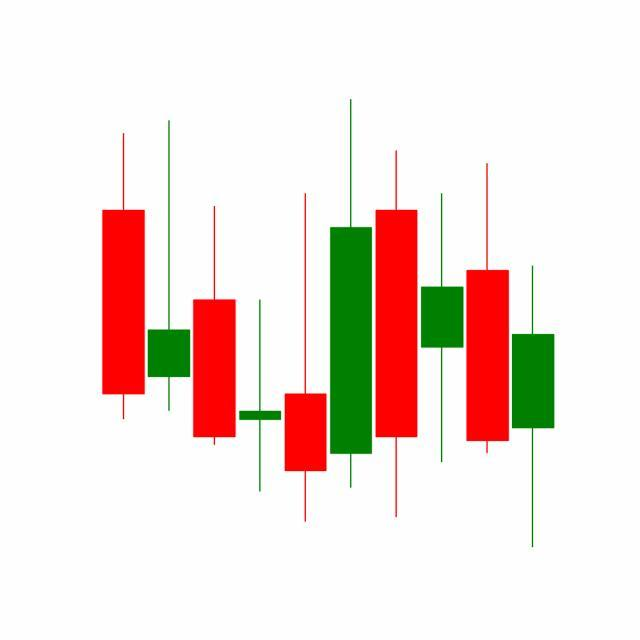Hikkake Pattern: (283, 99, 512, 527)
